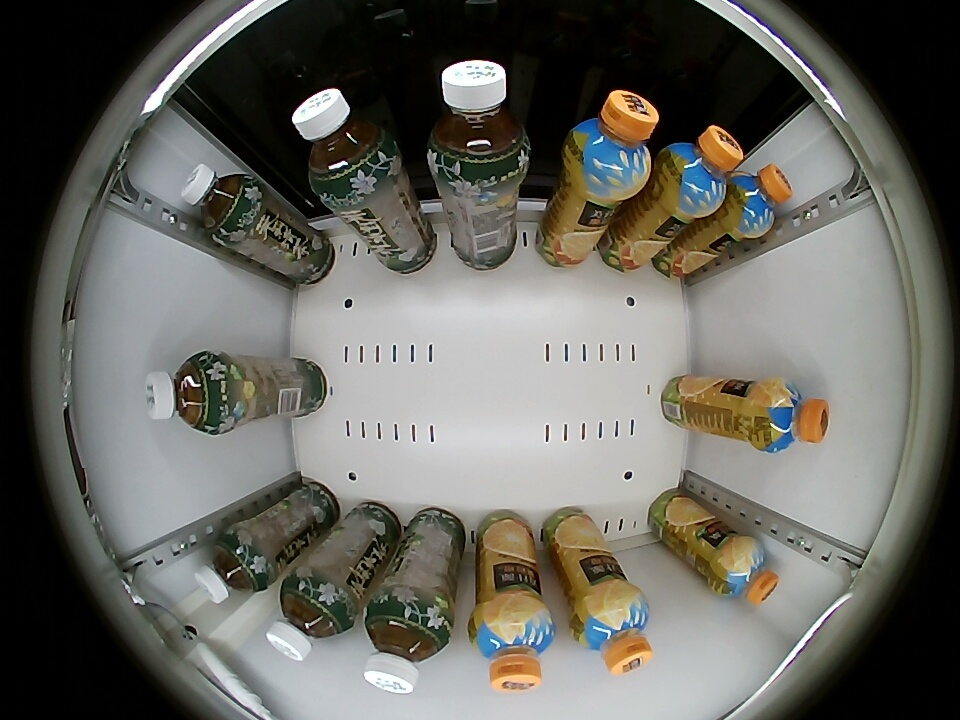guolicheng: (563, 90, 657, 201), (469, 595, 557, 692), (654, 125, 743, 219), (570, 582, 653, 675), (746, 378, 830, 454), (723, 164, 792, 240), (711, 535, 780, 606)
moliqingcha: (426, 59, 531, 183), (292, 89, 397, 198), (362, 598, 452, 695), (266, 576, 352, 662), (144, 350, 229, 434), (181, 164, 258, 241), (194, 528, 270, 603)
